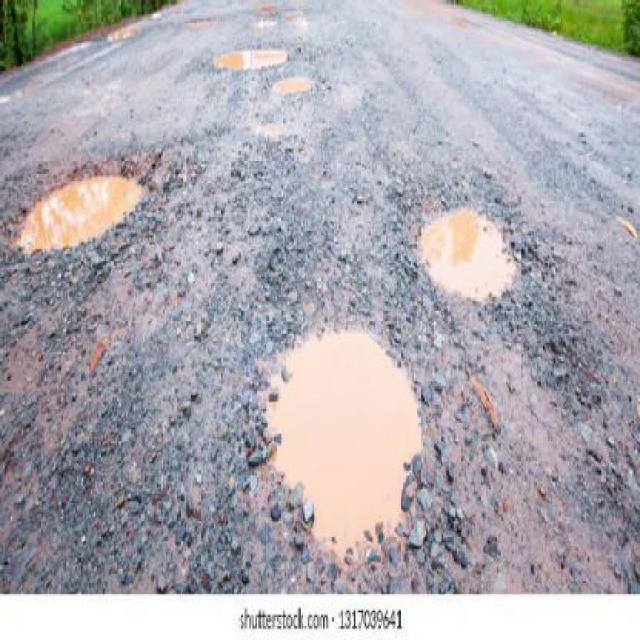Pothole: (248, 304, 438, 571), (10, 157, 150, 260), (412, 194, 518, 301), (212, 45, 290, 73), (268, 68, 318, 99)
